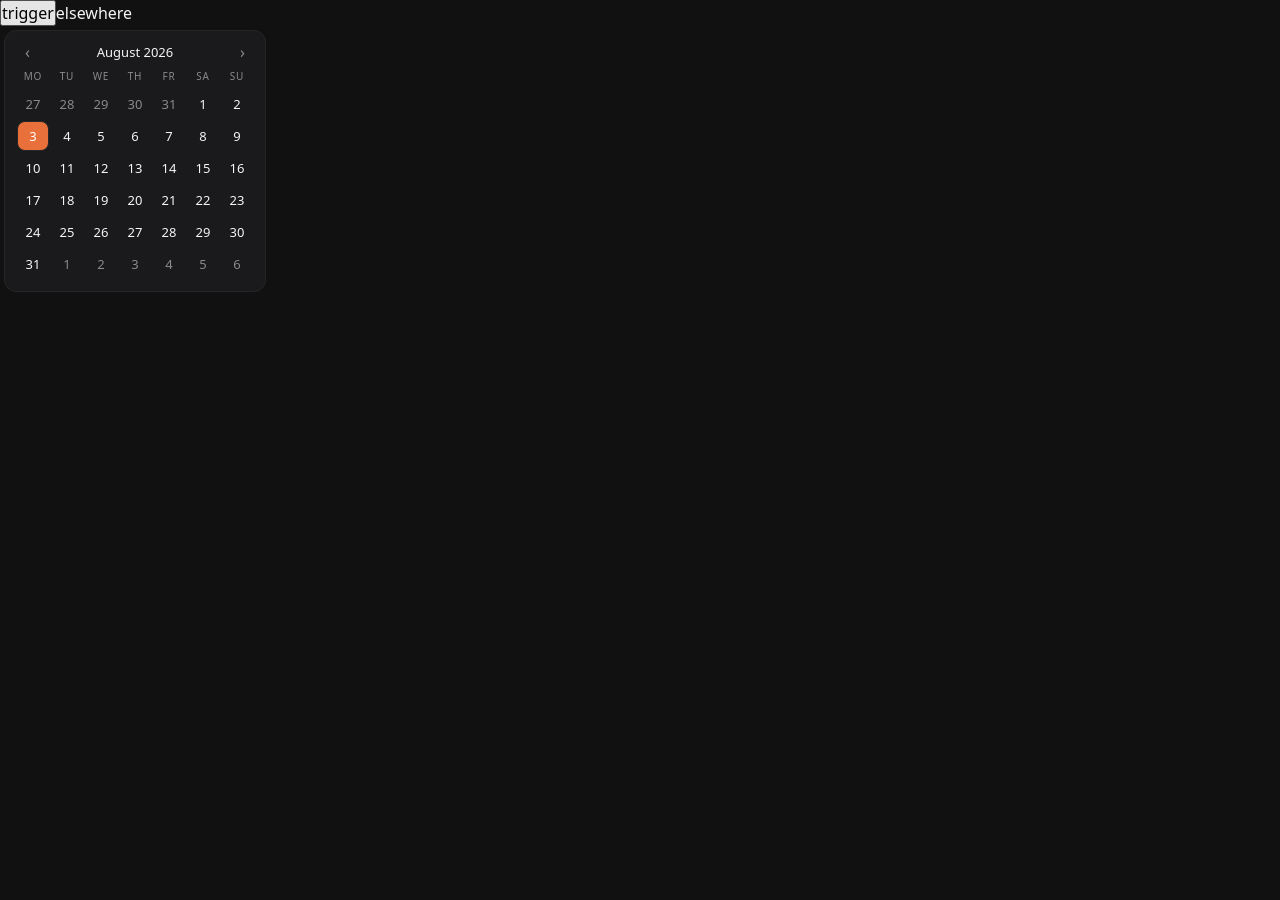
Scenario: DatePicker › steps to the previous and the next month
The image size is (1280, 900).
Click the button named "Previous month". click: (28, 52)
box: [17,44,38,60]
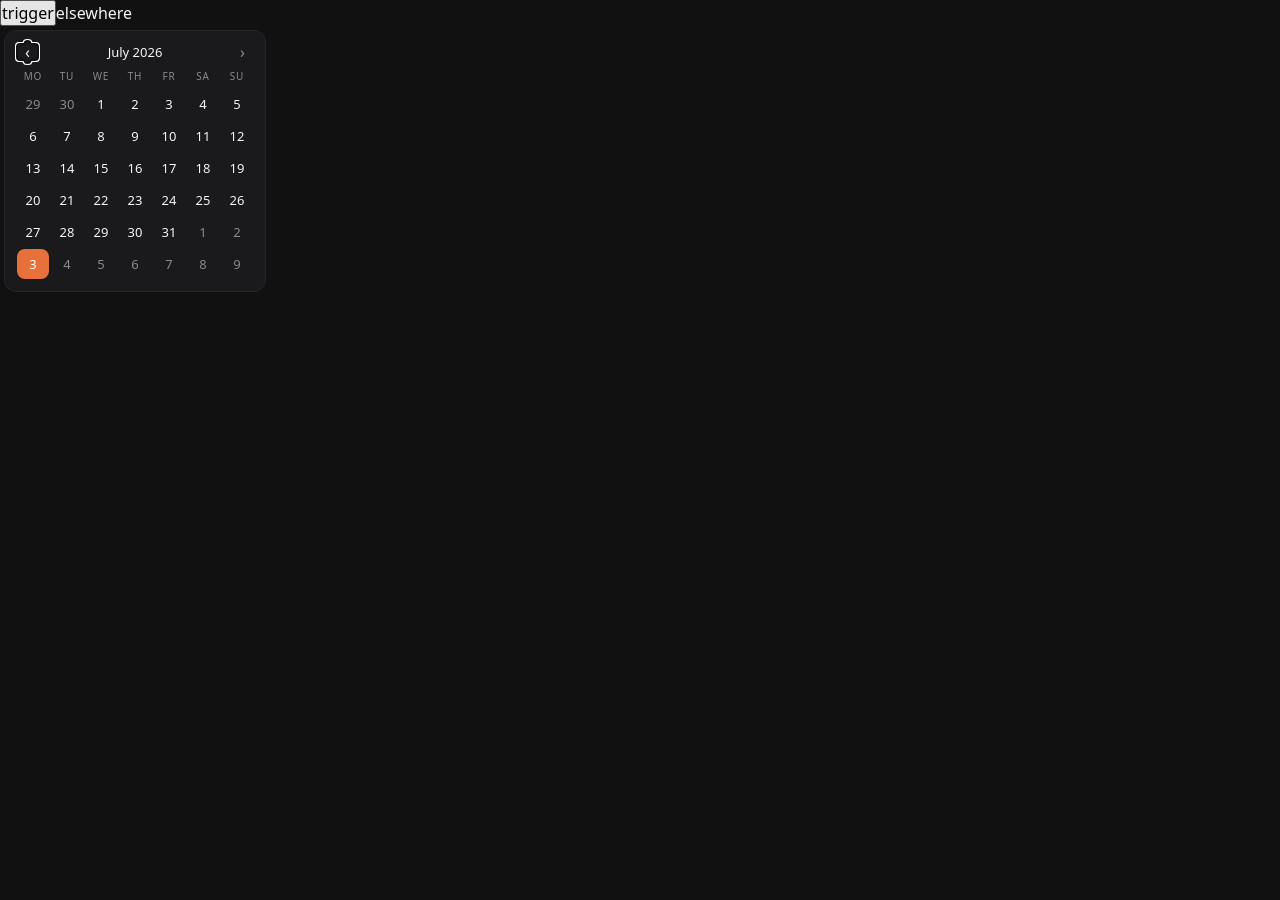
Expected: the text "July 2026" is shown, [108,43,162,61]
Click the button named "Next month". click: (242, 52)
box: [232,44,253,60]
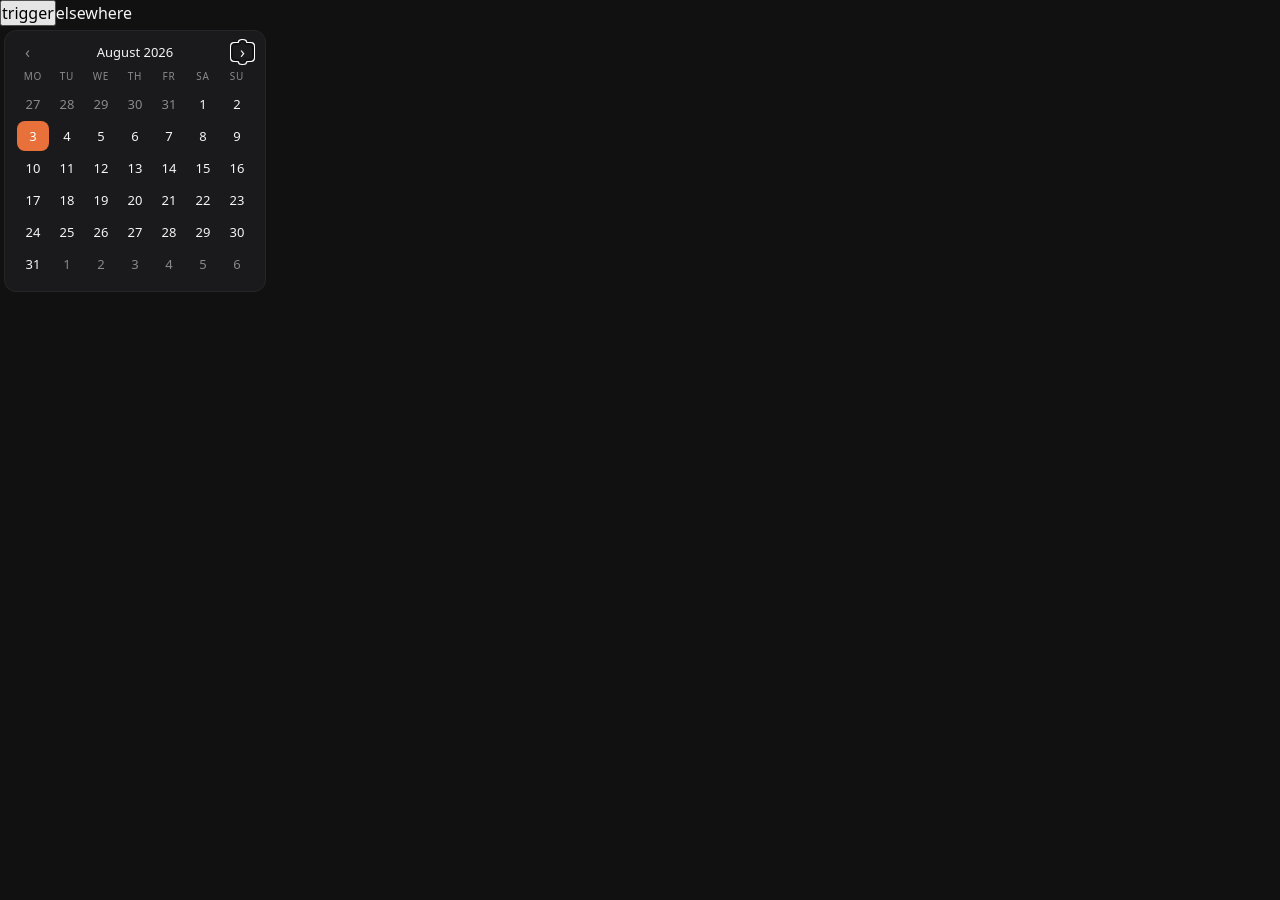
Click the button named "Next month". click: (242, 52)
box: [232,44,253,60]
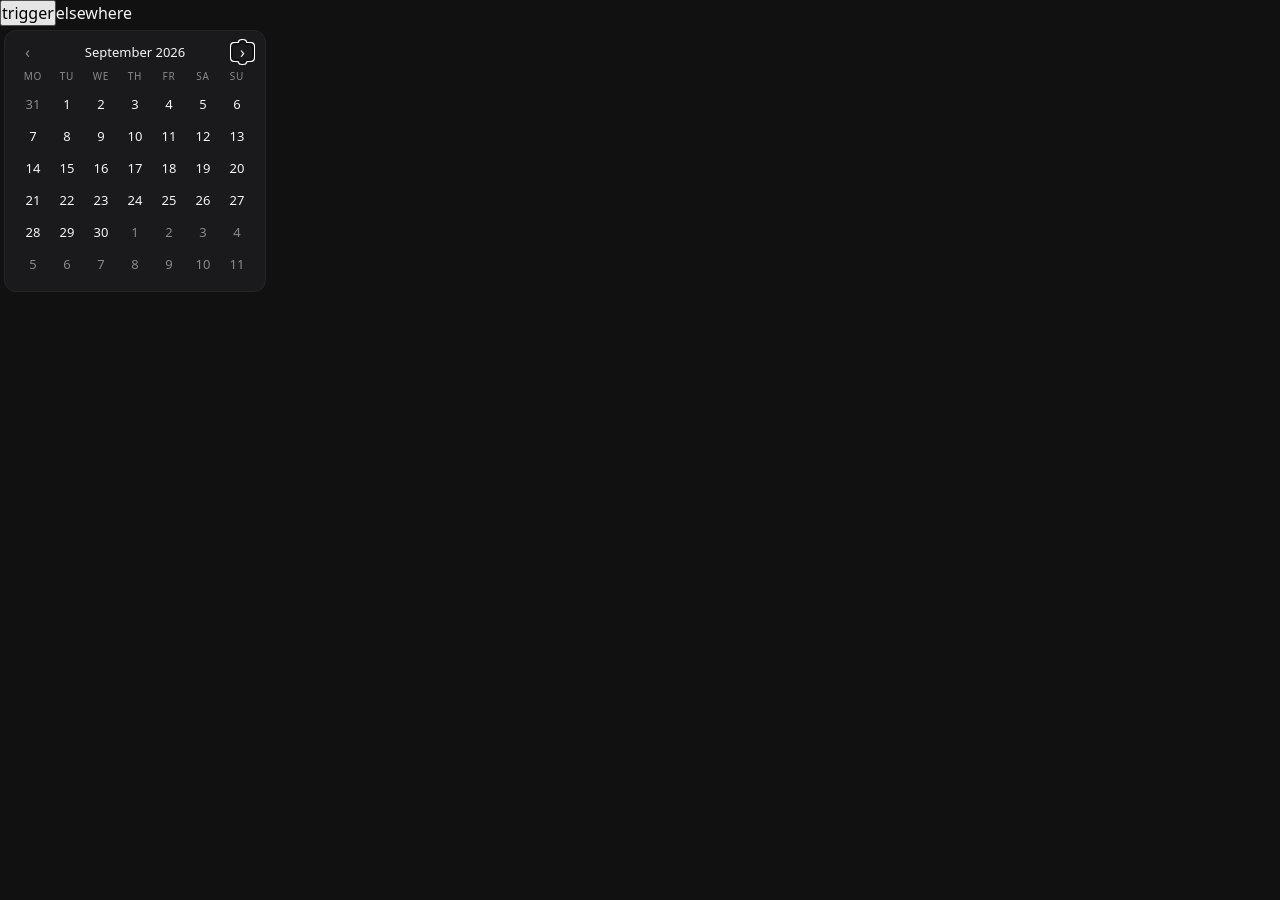
Expected: the text "September 2026" is shown, [85,43,185,61]
